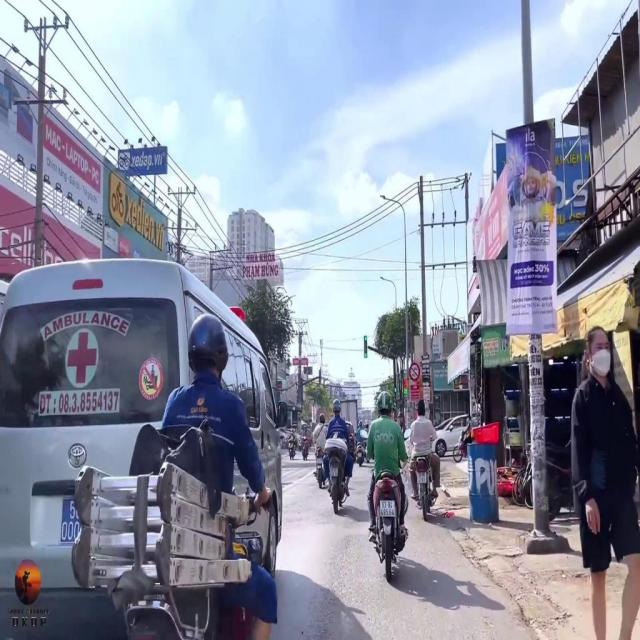cam_cac_loai_xe_3_banh: (409, 362, 420, 382)
